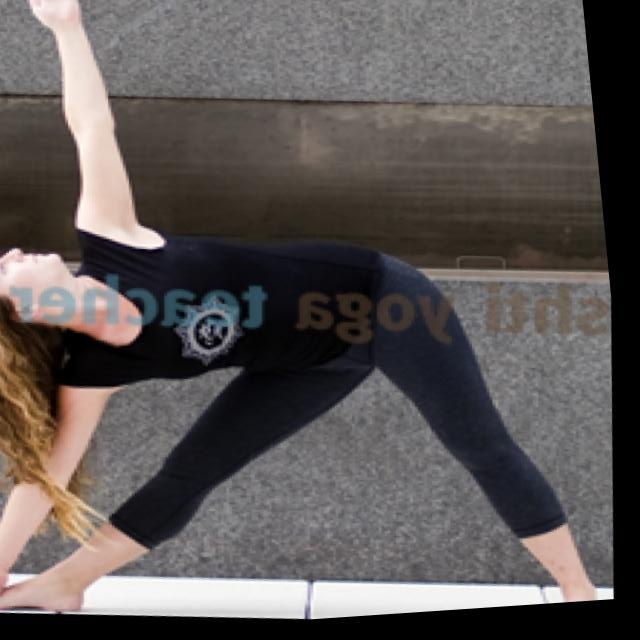Triangle_Pose: (1, 1, 608, 616)
